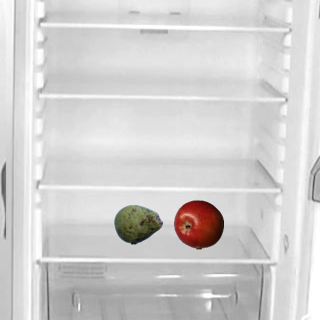Apple Braeburn: (173, 199, 223, 249)
Pear Stone: (113, 199, 163, 249)
